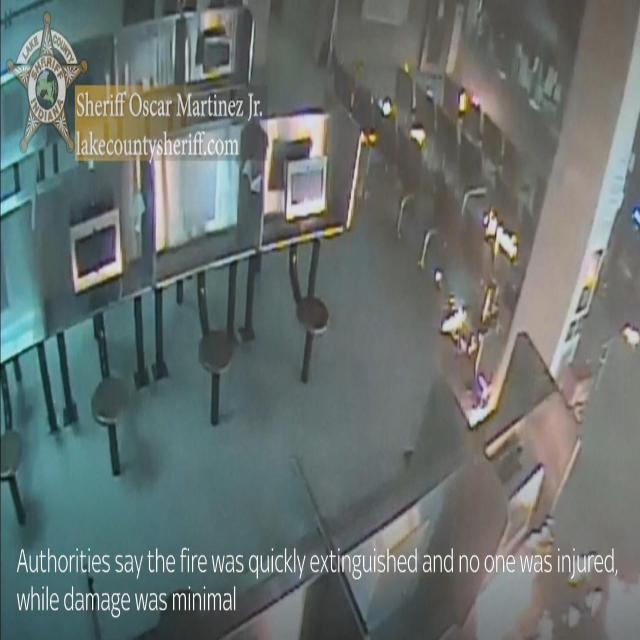fire: (472, 557, 552, 640), (605, 569, 640, 640), (484, 207, 517, 259), (440, 298, 467, 332)
